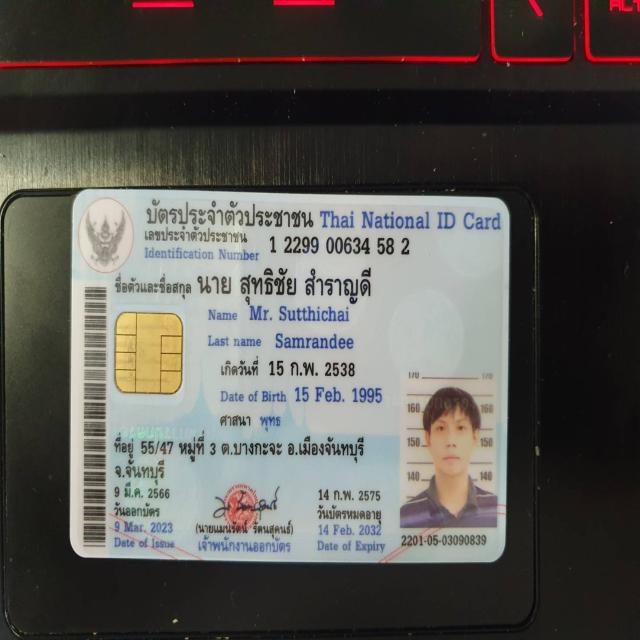Address_th: (108, 428, 376, 490)
Date_of_Birth: (290, 379, 388, 414)
Date_of_Expiry: (315, 520, 387, 538)
Date_of_Issue: (111, 517, 177, 535)
First_Name: (248, 305, 352, 325)
ID_Number: (266, 232, 416, 261)
Image: (397, 369, 500, 528)
Last_Name: (270, 328, 358, 356)
Thai_Name: (193, 264, 377, 306)
